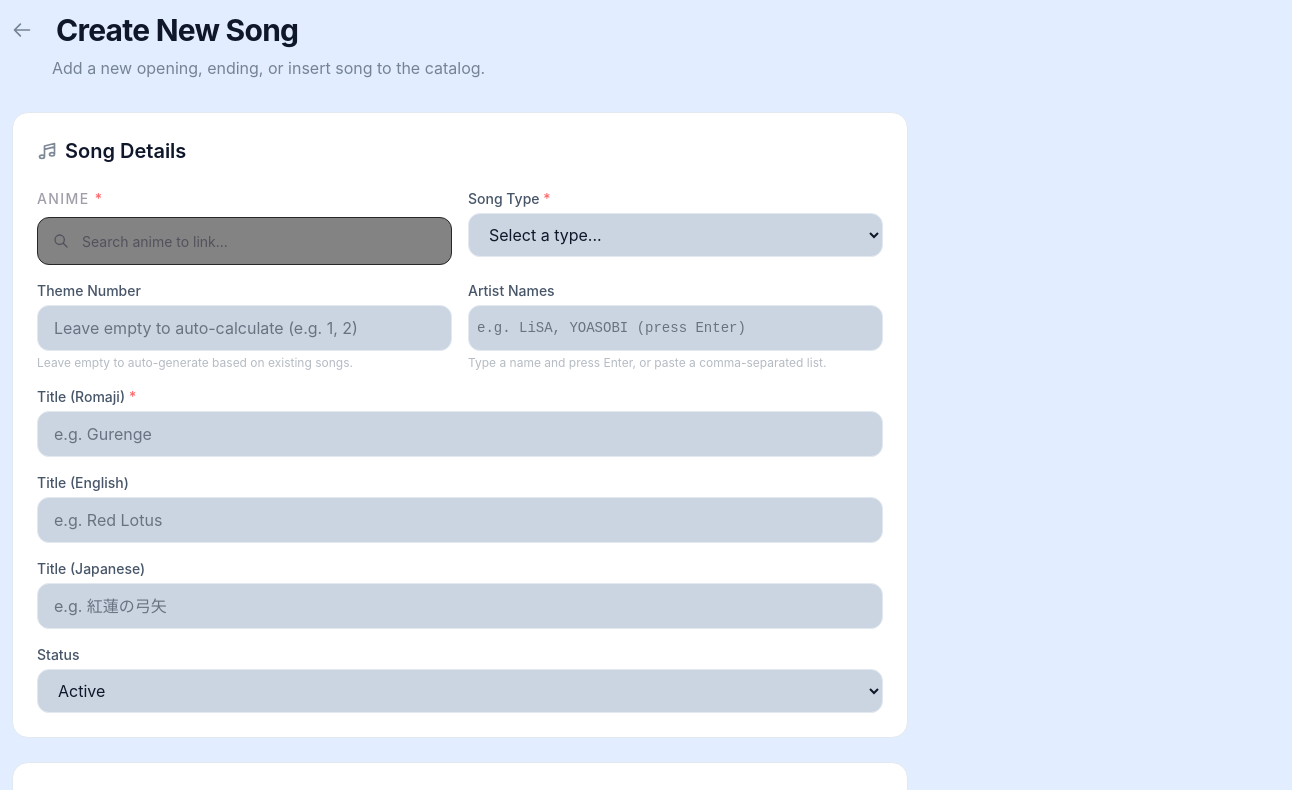
AdminSongCreation Component › should handle anime search and selection
Type "Boku" into the field with placeholder "Search anime to link..." at (244, 241), box [37,217,452,265]
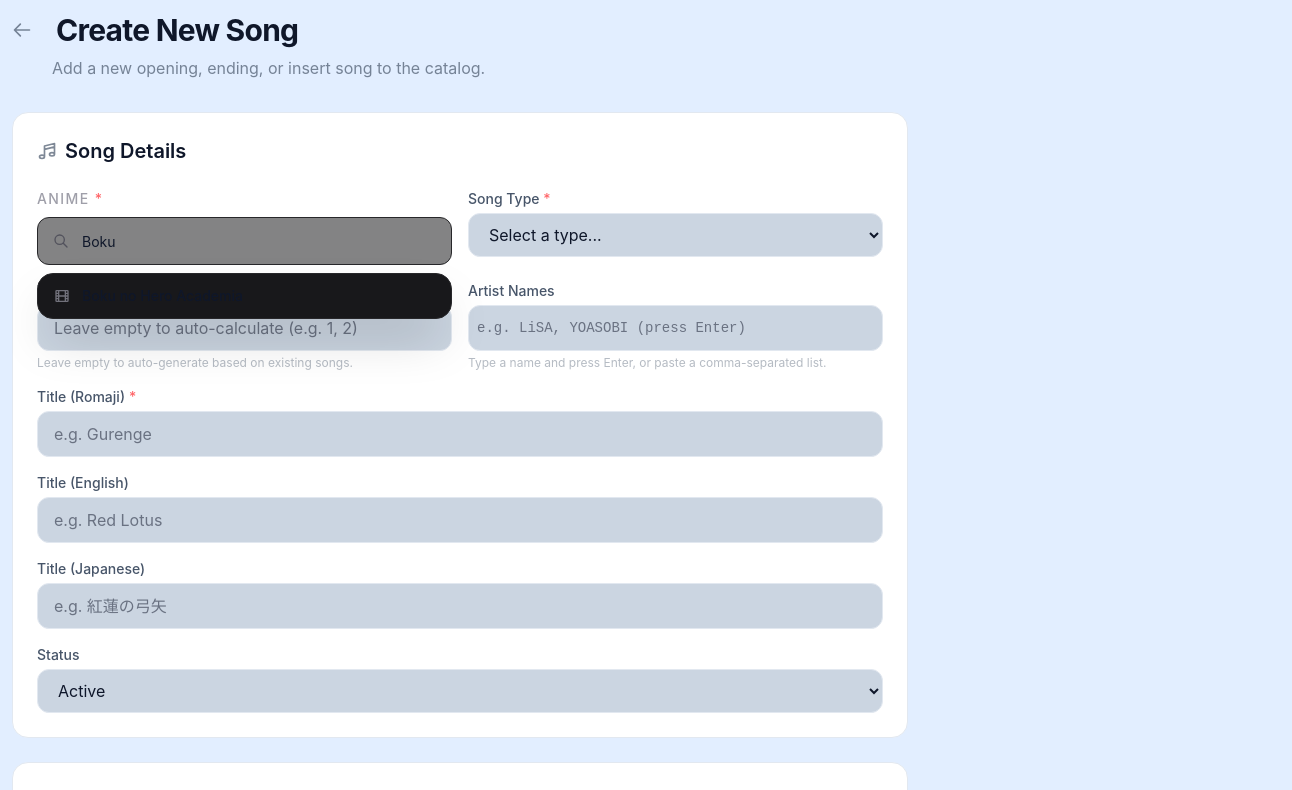
# Wait for search results
Click the button "Boku no Hero Academia" at (244, 296), box [38,274,451,318]
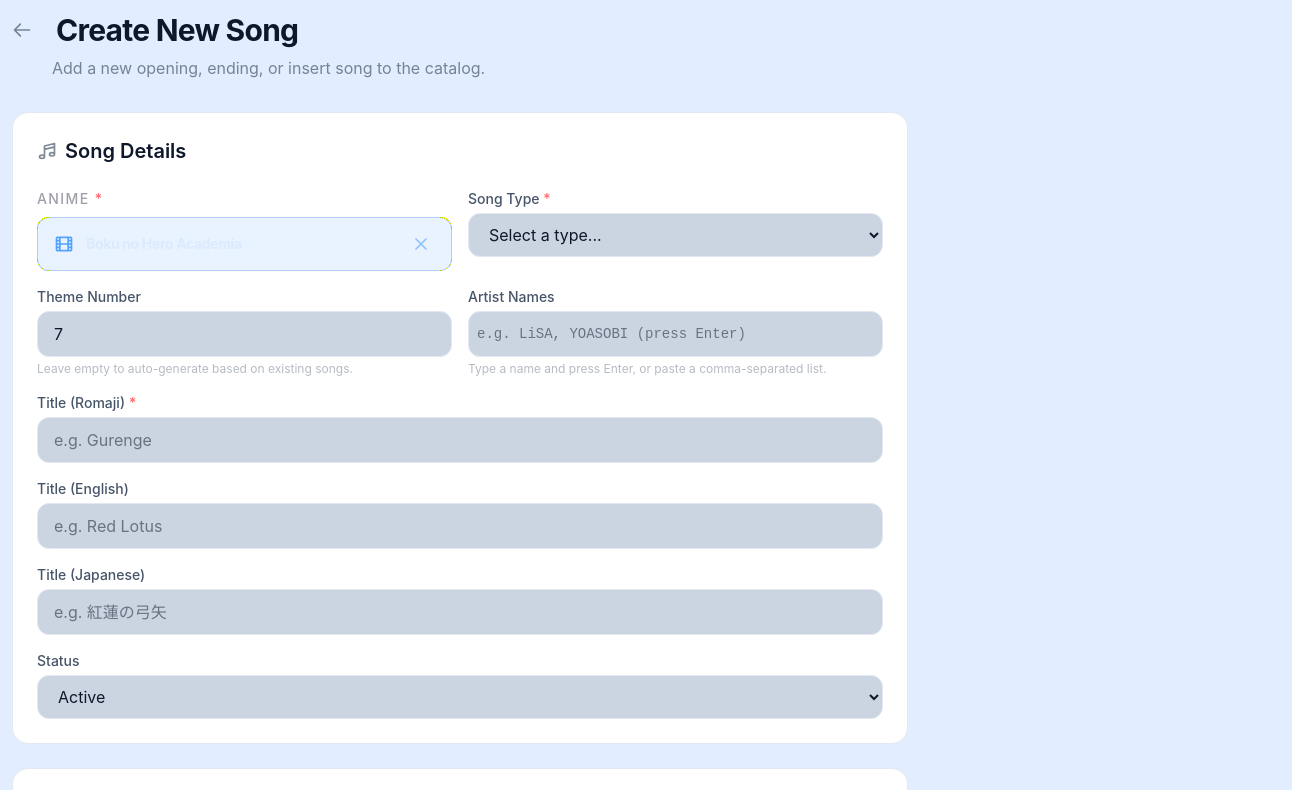
Expected: the number field labelled "Theme Number" holds "7", [37,311,452,357]
